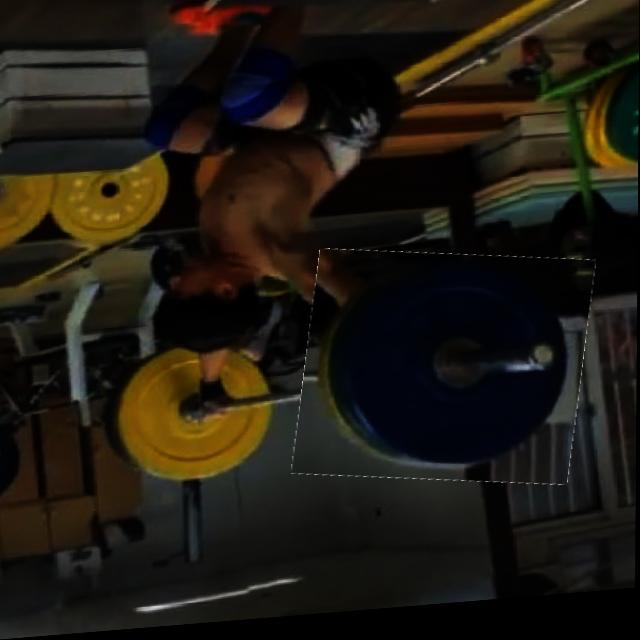barbell: (300, 246, 592, 505)
